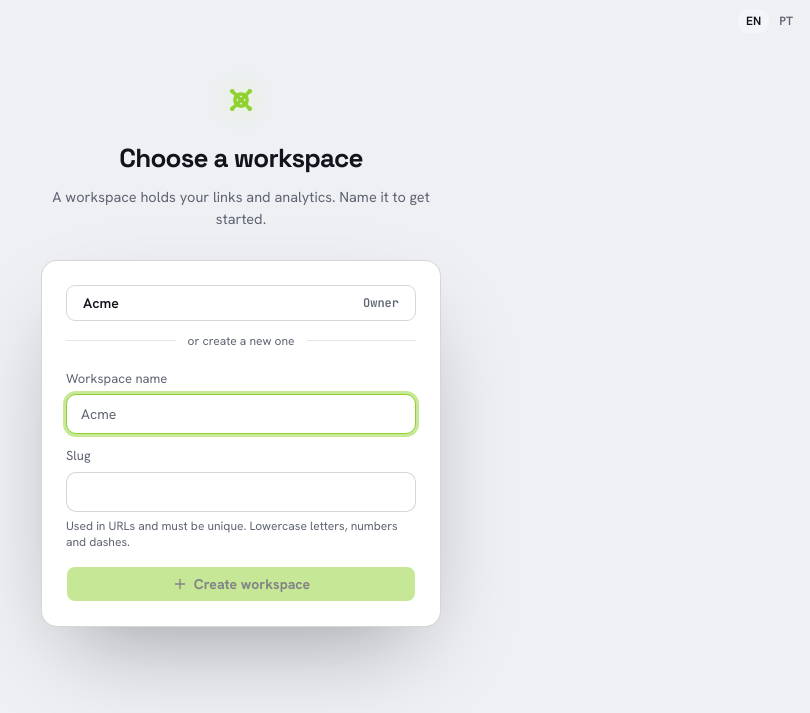
Onboarding › shows a rate-limit message when switching is throttled
Click the button "Acme Owner": (101, 303) [66, 285, 416, 321]
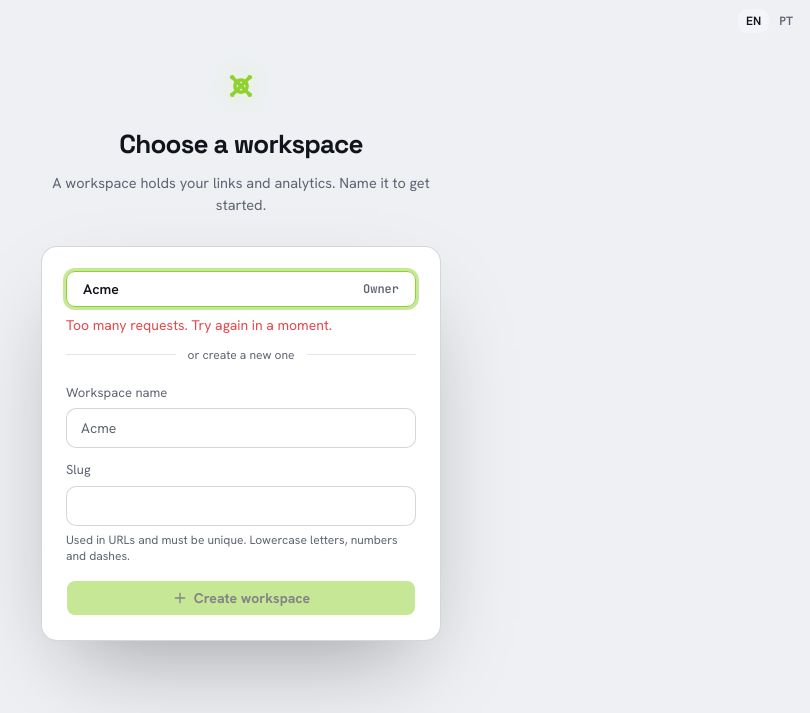
Expected: the message shows "Too many requests", [66, 316, 332, 334]
